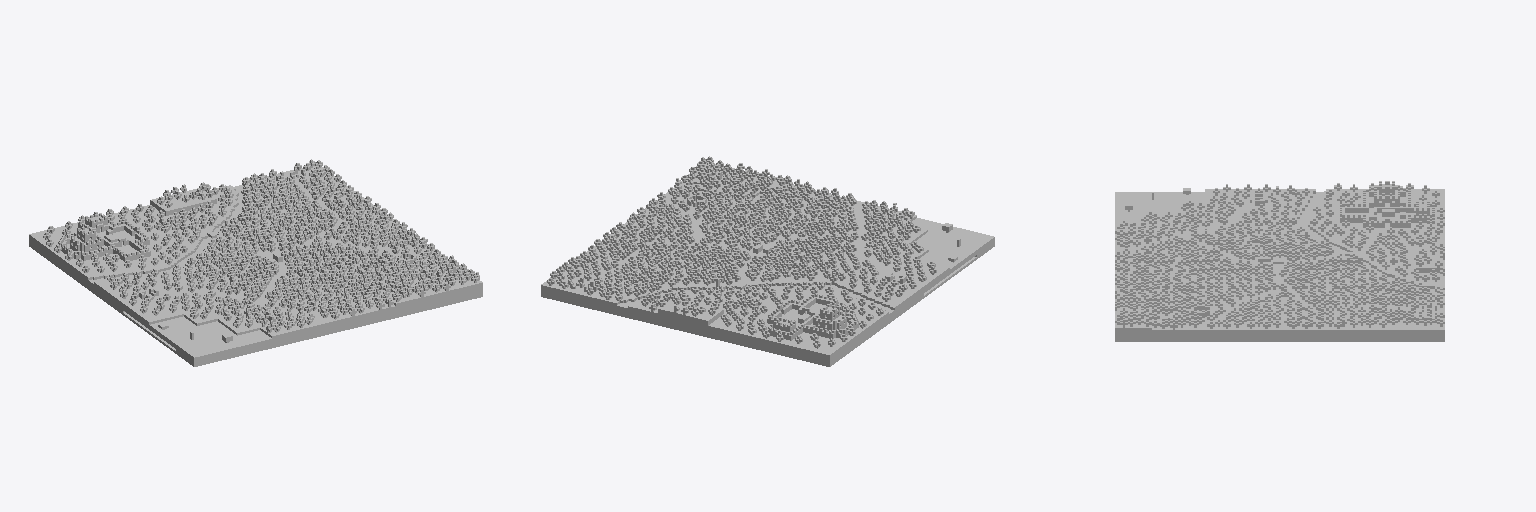
Rendered from mapa 3.obj.
3 views of the same model, side by side, from view 1: azimuth 30°, elevation 25°; view 2: azimuth 150°, elevation 25°; view 3: azimuth 270°, elevation 25° (orthographic).
Parts seen in each view (by area): view 1: object 1; view 2: object 1; view 3: object 1.
Part boxes in pixels (x1,y1,x2,y2): object 1: (29,159,482,366); object 1: (541,156,994,366); object 1: (1115,181,1444,341).
Bounding box in the file's own units: 12.6 × 1.3 × 12.5.